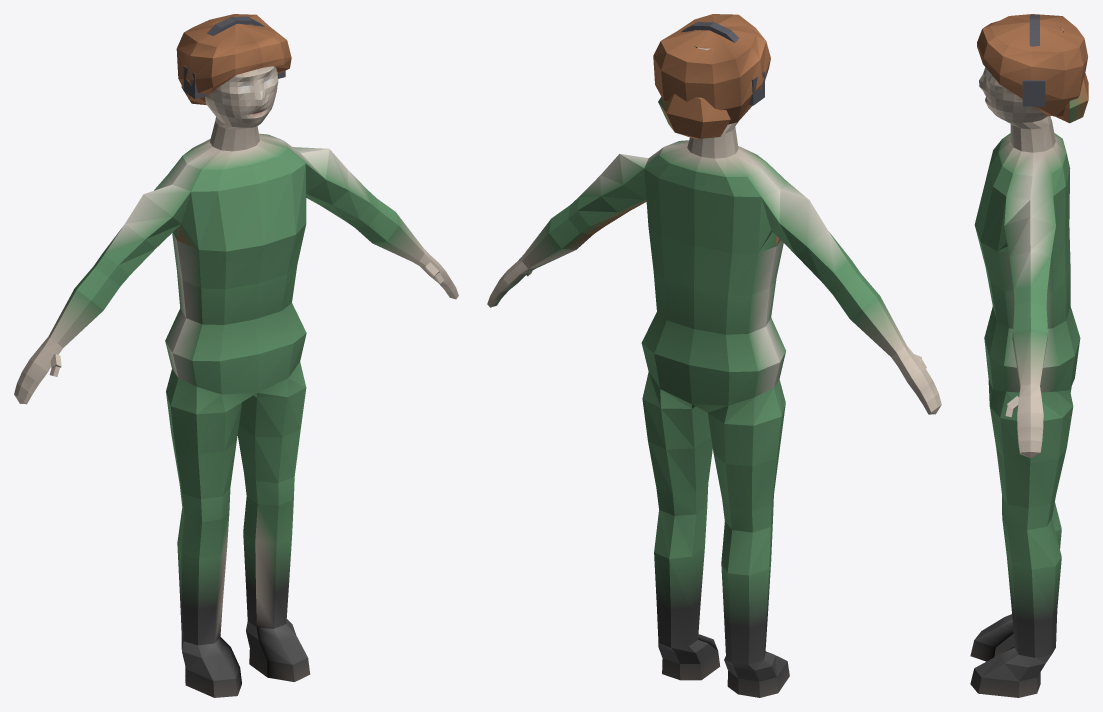
File: char__pessoa__fiona.glb
The picture shows the model from 3 angles, left to right: view 1: azimuth 30°, elevation 25°; view 2: azimuth 150°, elevation 25°; view 3: azimuth 270°, elevation 25°; orthographic projection. The views are drawn at different scales.
Parts seen in each view (by area): view 1: char__pessoa__fiona; view 2: char__pessoa__fiona; view 3: char__pessoa__fiona.
Part boxes in pixels (bbox=[...]): char__pessoa__fiona: bbox=[14, 14, 458, 697]; char__pessoa__fiona: bbox=[487, 14, 941, 697]; char__pessoa__fiona: bbox=[970, 14, 1088, 697].
Size of the model in its own units: 1.22 by 1.74 by 0.2842.
